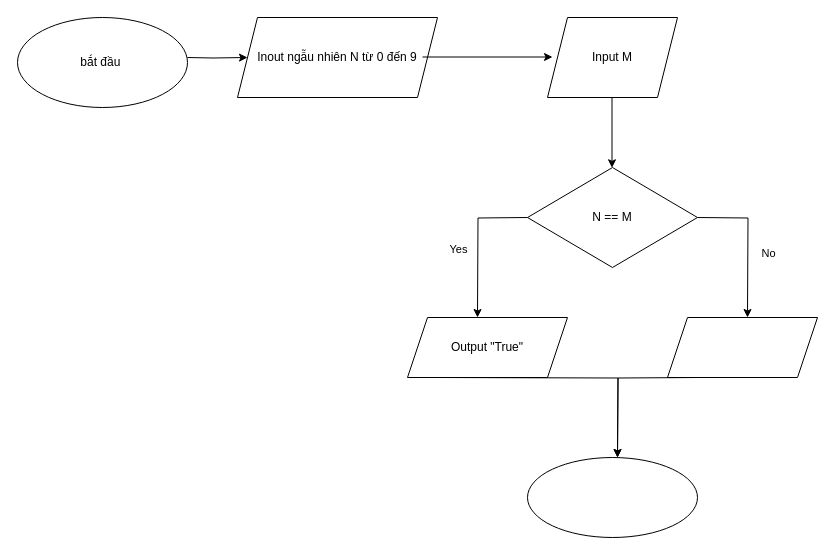
Some shapes in this 835 by 555 pixel diagram are drawn without their labels. Here are the shapes that lost their labels. From the top down, the centre of each, then its label:
pixel 742 347: Output"False"
pixel 612 497: Kết thúc
